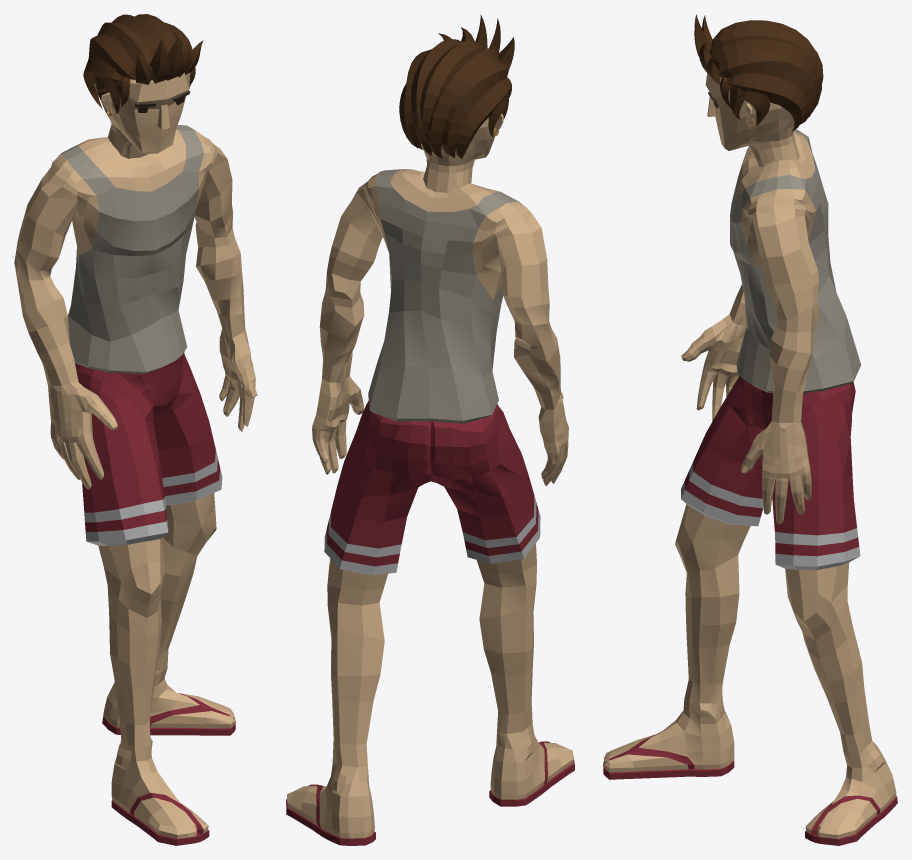
The model's file is quaternius-char-beach.glb.
3 renders of one model, left to right at view 1: azimuth 30°, elevation 25°; view 2: azimuth 150°, elevation 25°; view 3: azimuth 270°, elevation 25°, orthographic.
Parts seen in each view (by area): view 1: Beach_Body; view 2: Beach_Body; view 3: Beach_Body.
Boxes of the visible parts, x1,y1,x2,y2 form: Beach_Body: (14,14,257,845); Beach_Body: (286,14,574,845); Beach_Body: (603,14,897,845).
Size of the model in its own units: 0.5891 by 1.82 by 0.6368.
